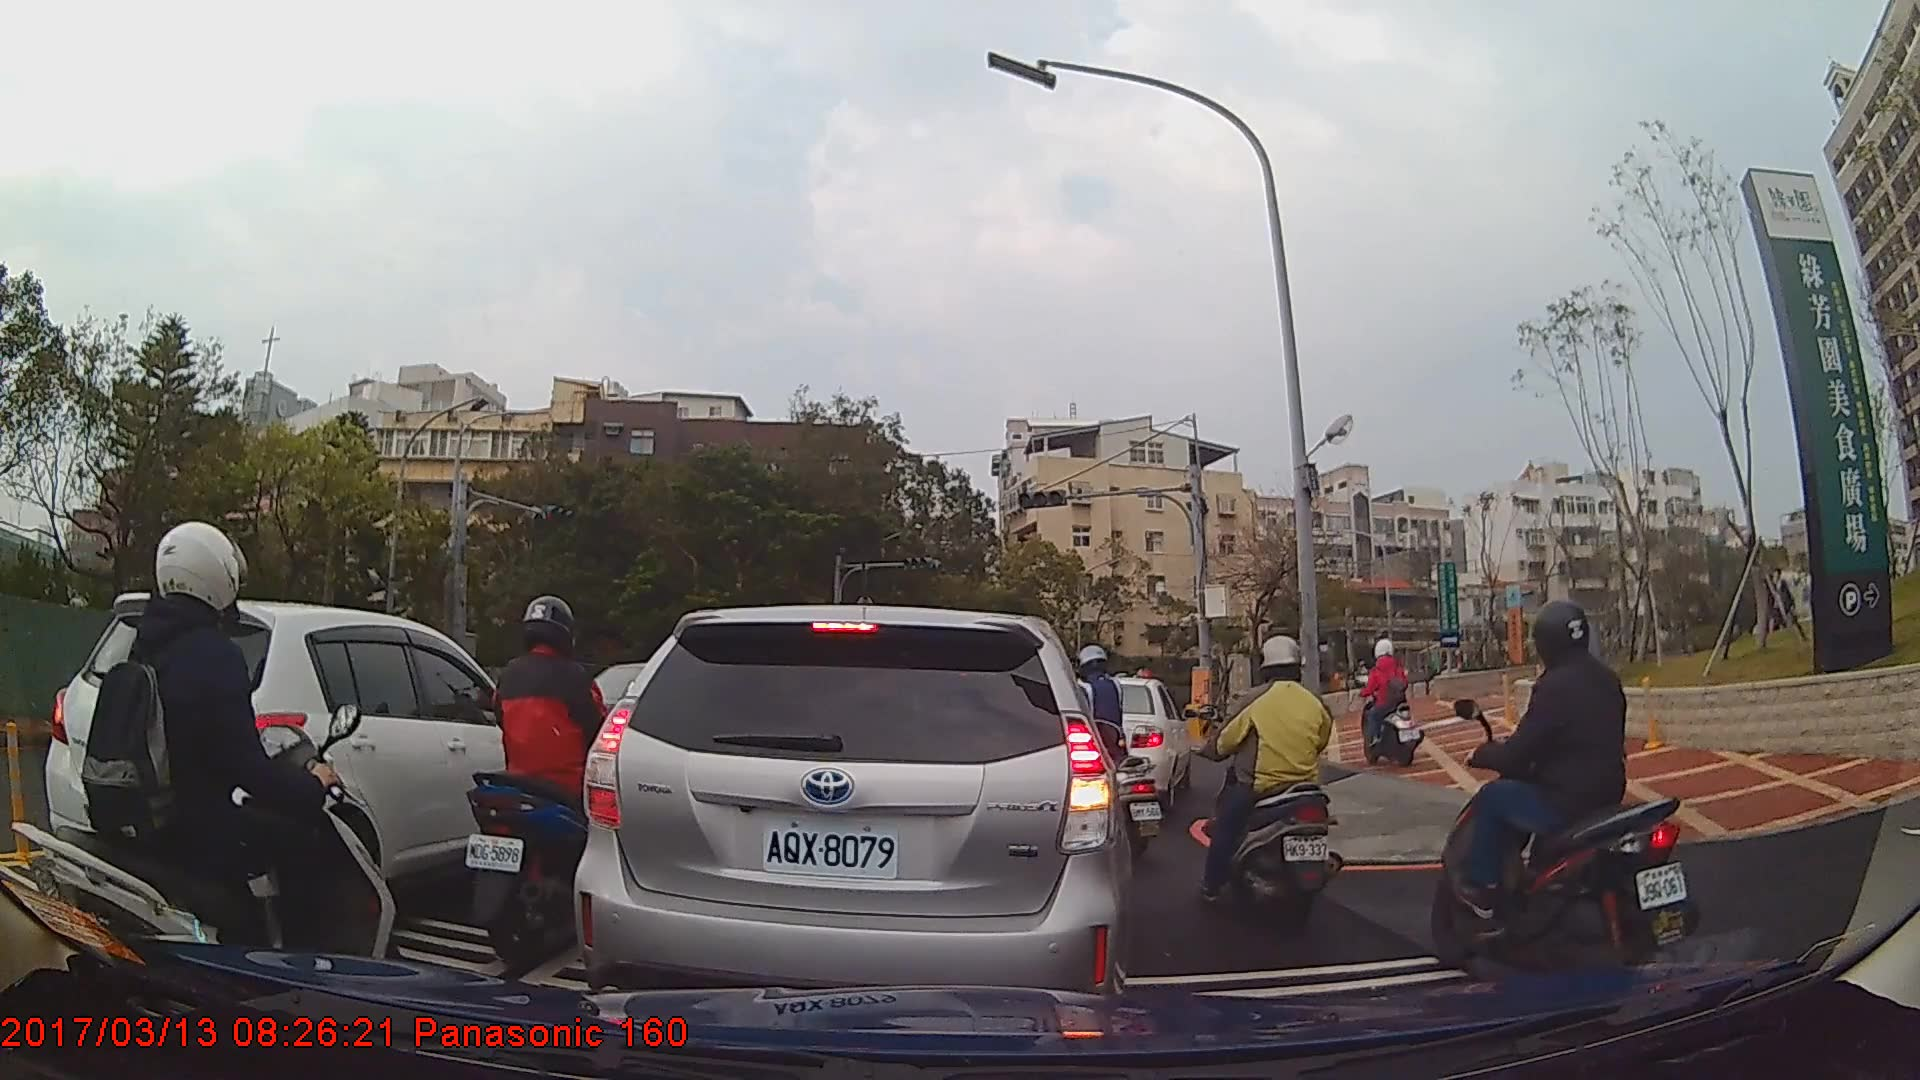pedestrian: (1758, 560, 1800, 635), (1752, 574, 1786, 637)
rider: (11, 516, 396, 1043), (1433, 592, 1697, 996), (460, 591, 636, 963), (1191, 635, 1340, 915), (1039, 642, 1167, 861), (1349, 638, 1423, 766)
vehicle: (572, 603, 1131, 1023), (43, 591, 579, 922)
